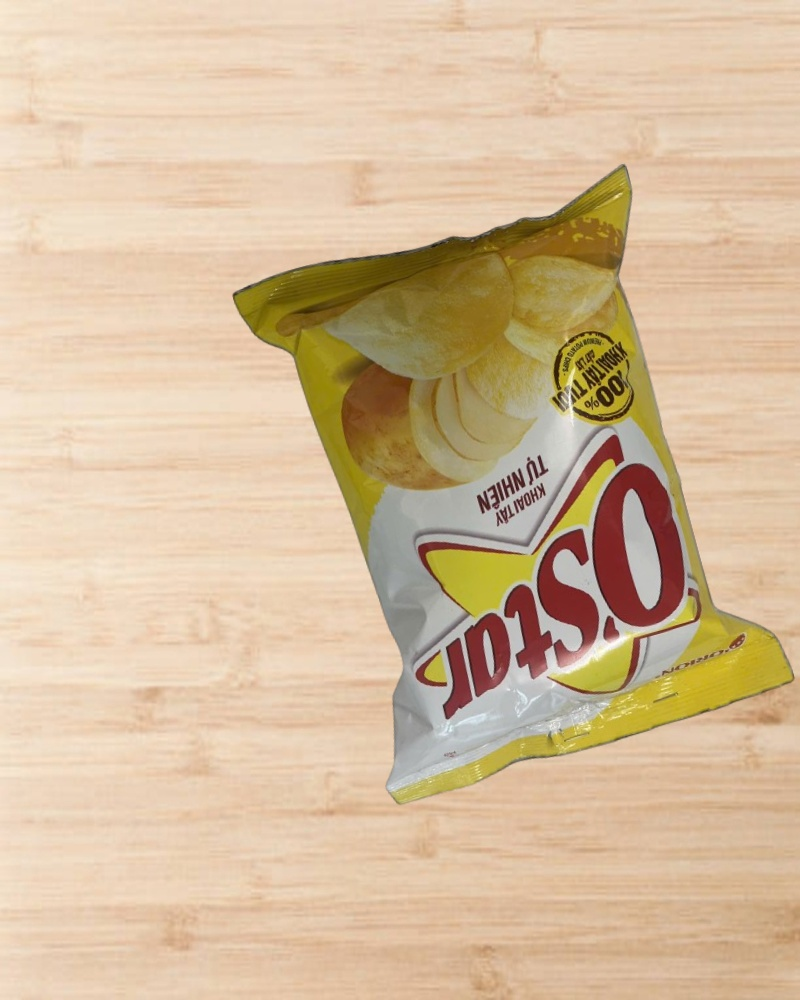Snack cua: (233, 163, 796, 805)
